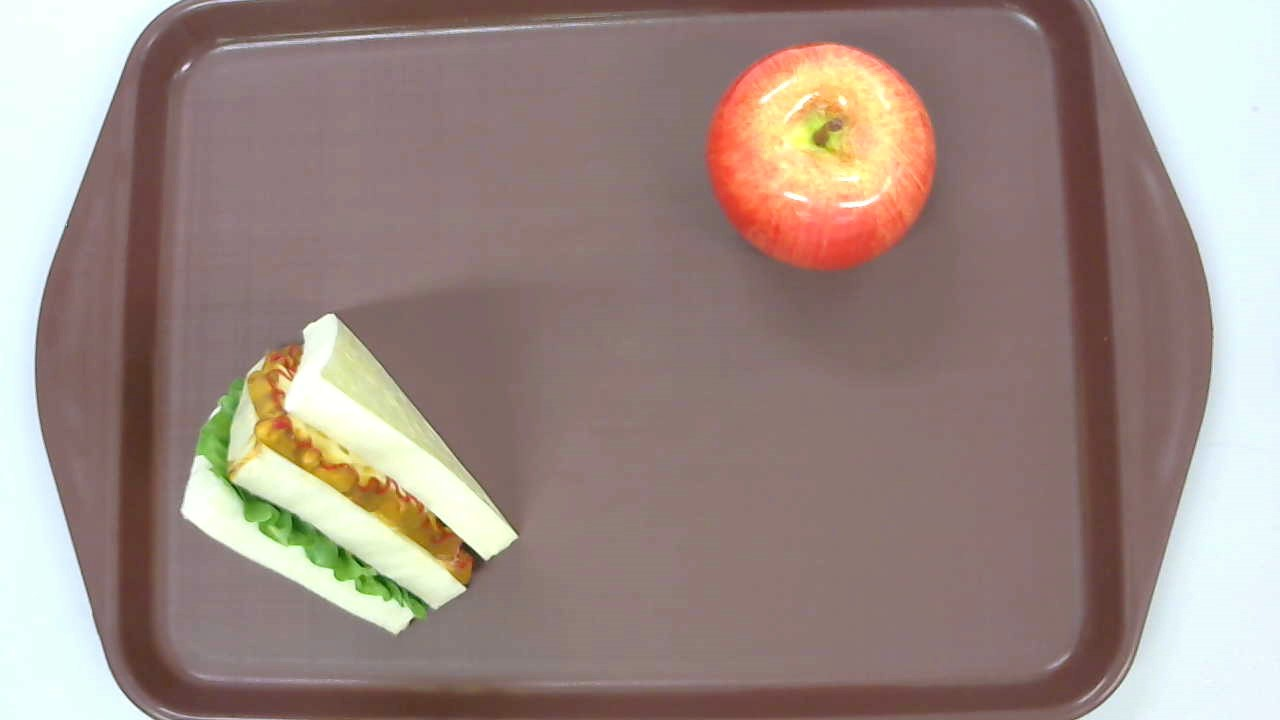red apple: (706, 42, 936, 273)
sandwich: (180, 313, 518, 637)
